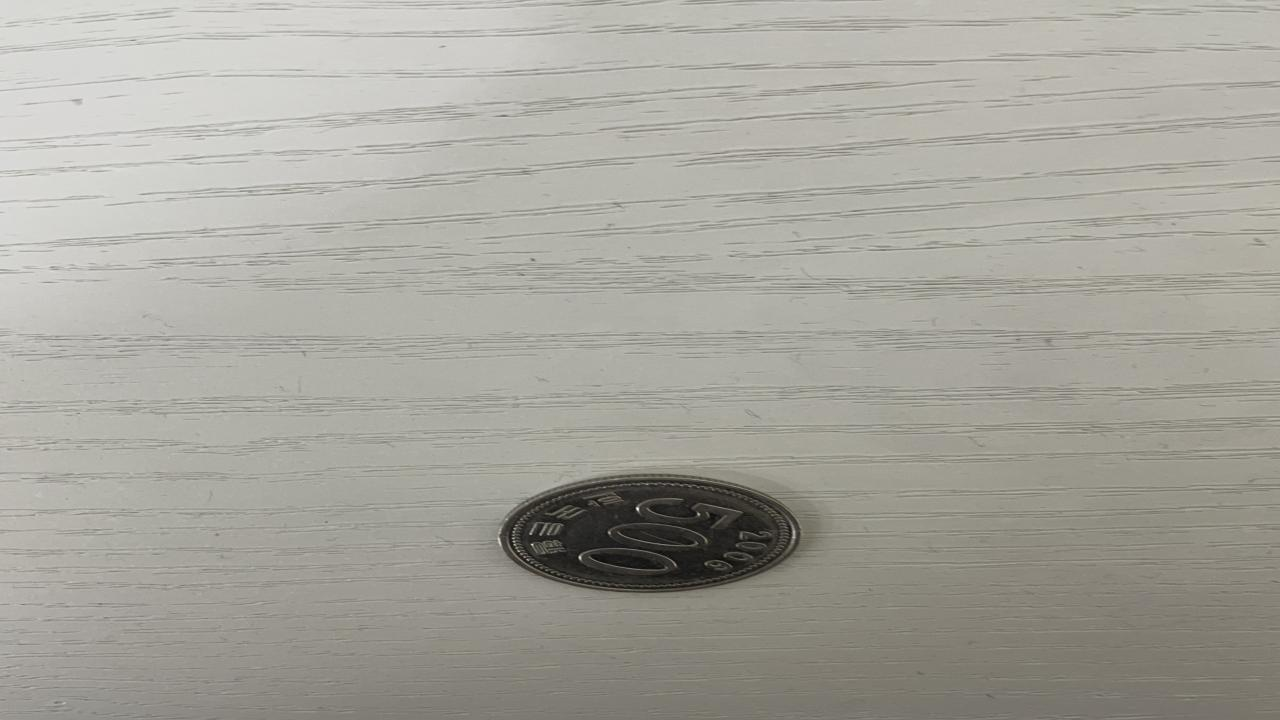coin: (498, 474, 808, 592)
